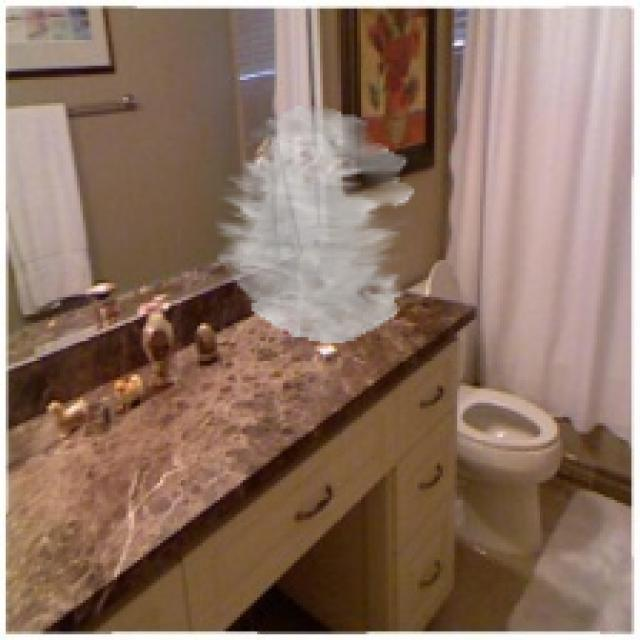Smoke: (214, 106, 414, 343)
